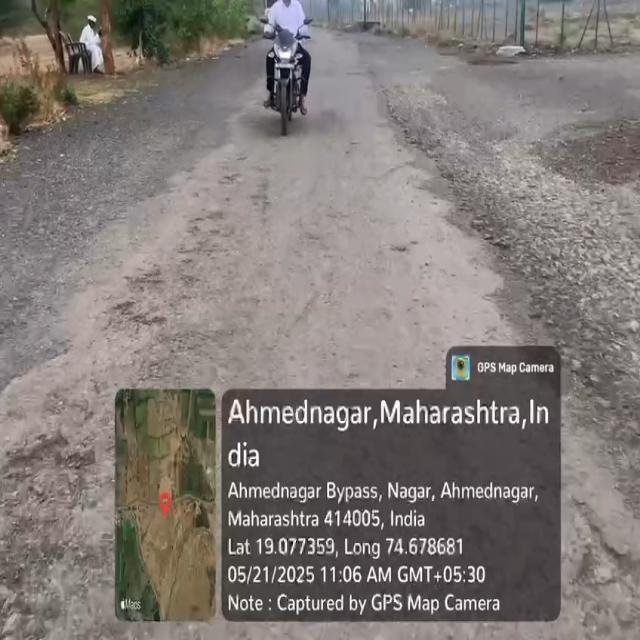damage surface: (401, 108, 621, 335), (0, 403, 100, 631), (100, 192, 215, 340)
